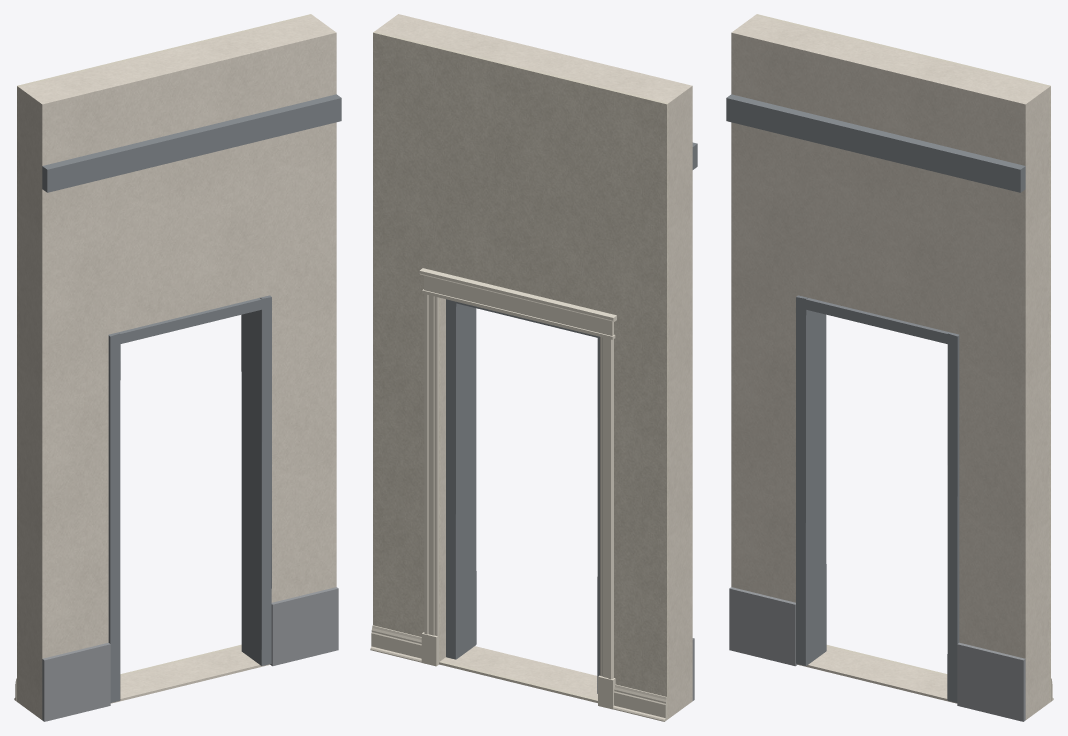
File: wall_ground_door.glb
The picture shows the model from 3 angles, left to right: view 1: azimuth 30°, elevation 25°; view 2: azimuth 150°, elevation 25°; view 3: azimuth 330°, elevation 25°; orthographic projection.
Parts seen in each view (by area): view 1: wall_ground_door_panel, wall_ground_door_shopframe, wall_ground_door_coping, wall_ground_door_plaster; view 2: wall_ground_door_plaster, wall_ground_door_panel, molduras, wall_ground_door_shopframe; view 3: wall_ground_door_panel, wall_ground_door_shopframe, wall_ground_door_coping, wall_ground_door_plaster.
Part boxes in pixels (box(x1,y1,x2,y2)): wall_ground_door_panel: box(18, 15, 336, 719); wall_ground_door_shopframe: box(42, 94, 341, 702); wall_ground_door_coping: box(42, 587, 338, 721); wall_ground_door_plaster: box(17, 14, 312, 702); wall_ground_door_plaster: box(373, 31, 668, 719); wall_ground_door_panel: box(375, 14, 692, 718); molduras: box(370, 268, 666, 721); wall_ground_door_shopframe: box(446, 142, 697, 693); wall_ground_door_panel: box(731, 15, 1049, 719); wall_ground_door_shopframe: box(726, 94, 1025, 702); wall_ground_door_coping: box(729, 587, 1025, 721); wall_ground_door_plaster: box(755, 14, 1050, 702).
Bounding box in the file's own units: 2 × 4 × 0.402.
Materials: 5 (2 with a texture image).
